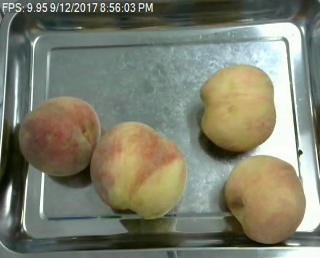Peach: (89, 120, 186, 218), (223, 155, 306, 244), (198, 64, 276, 153), (18, 95, 100, 177)
